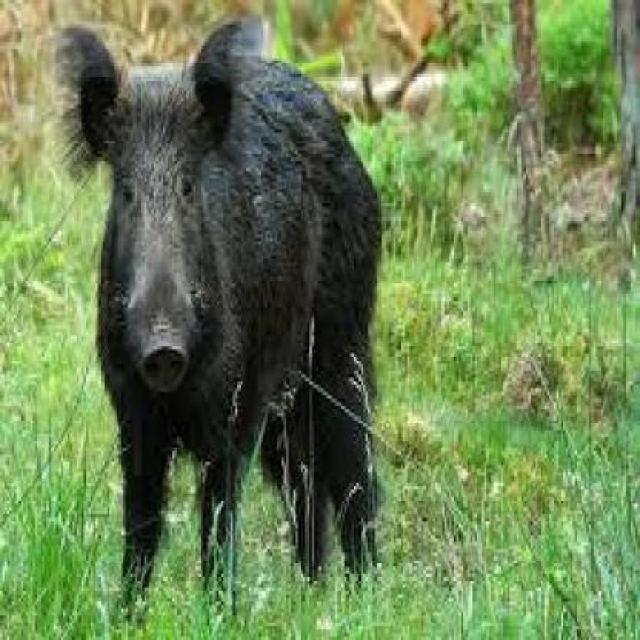wildboar: (56, 18, 393, 640)
